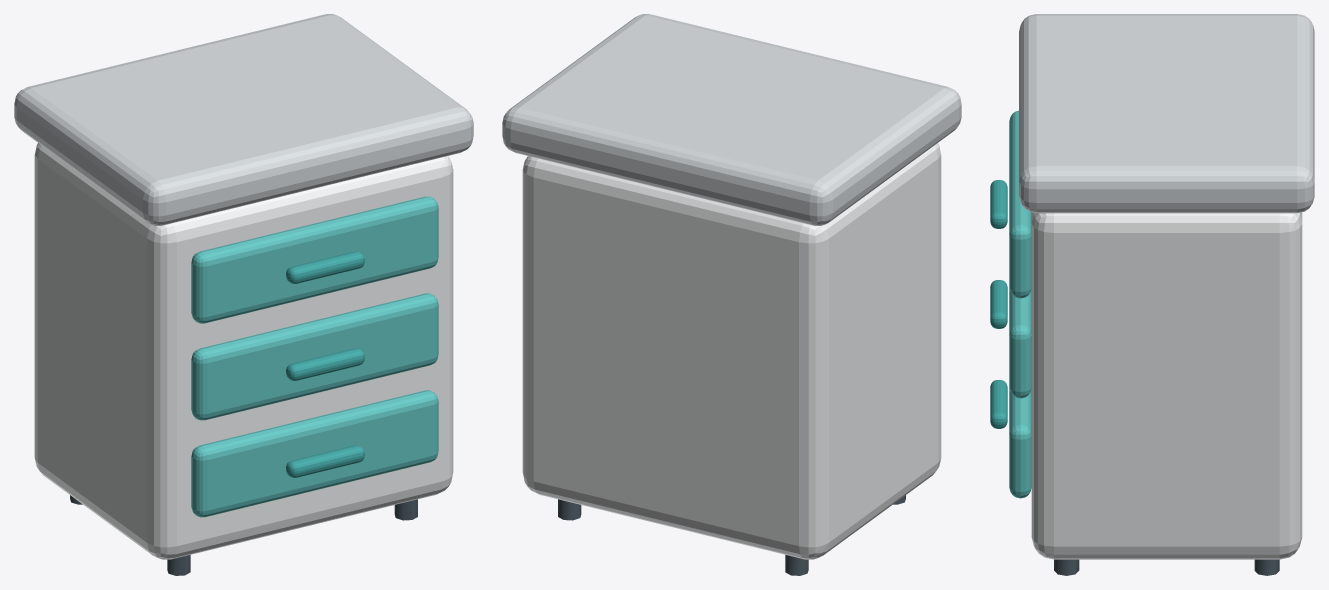
Rendered from drawer-cabinet.glb.
The picture shows the model from 3 angles, left to right: view 1: azimuth 30°, elevation 25°; view 2: azimuth 150°, elevation 25°; view 3: azimuth 270°, elevation 25°; orthographic projection. The views are drawn at different scales.
Parts seen in each view (by area): view 1: body, top, drawer_3, drawer_1, drawer_2, handle_2, handle_3, handle_1; view 2: body, top; view 3: body, top, drawer_1, drawer_2, drawer_3, handle_1, handle_2, handle_3.
Part boxes in pixels (x1,y1,x2,y2): body: [34, 143, 453, 559]; top: [14, 14, 473, 225]; drawer_3: [191, 390, 438, 517]; drawer_1: [191, 196, 438, 323]; drawer_2: [191, 293, 438, 420]; handle_2: [286, 348, 364, 380]; handle_3: [286, 445, 364, 477]; handle_1: [286, 251, 364, 283]; body: [522, 143, 941, 559]; top: [502, 14, 961, 225]; body: [1031, 212, 1302, 559]; top: [1019, 14, 1314, 213]; drawer_1: [1009, 110, 1031, 298]; drawer_2: [1009, 288, 1031, 398]; drawer_3: [1009, 388, 1031, 498]; handle_1: [990, 180, 1007, 228]; handle_2: [990, 280, 1007, 328]; handle_3: [990, 380, 1007, 428].
Bounding box in the file's own units: 0.78 × 0.93 × 0.6475.
